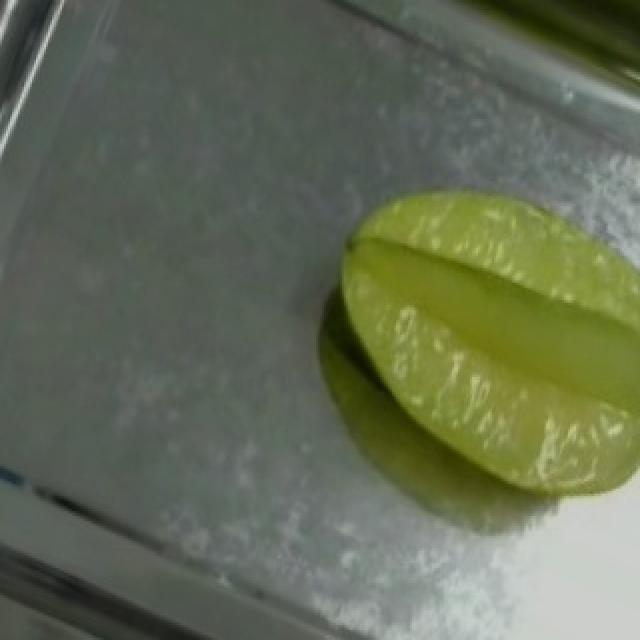fruit: (298, 144, 640, 526)
